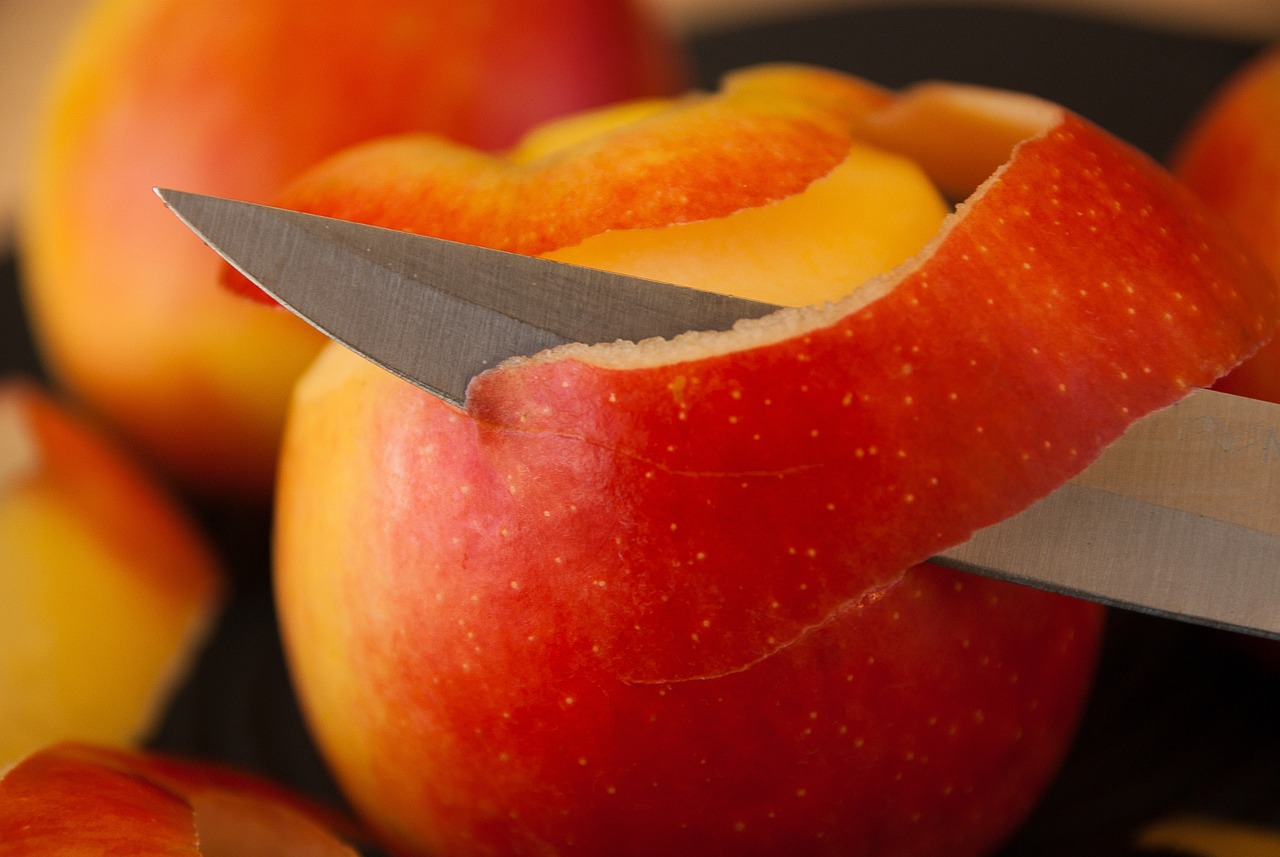knife: (142, 173, 1280, 647)
